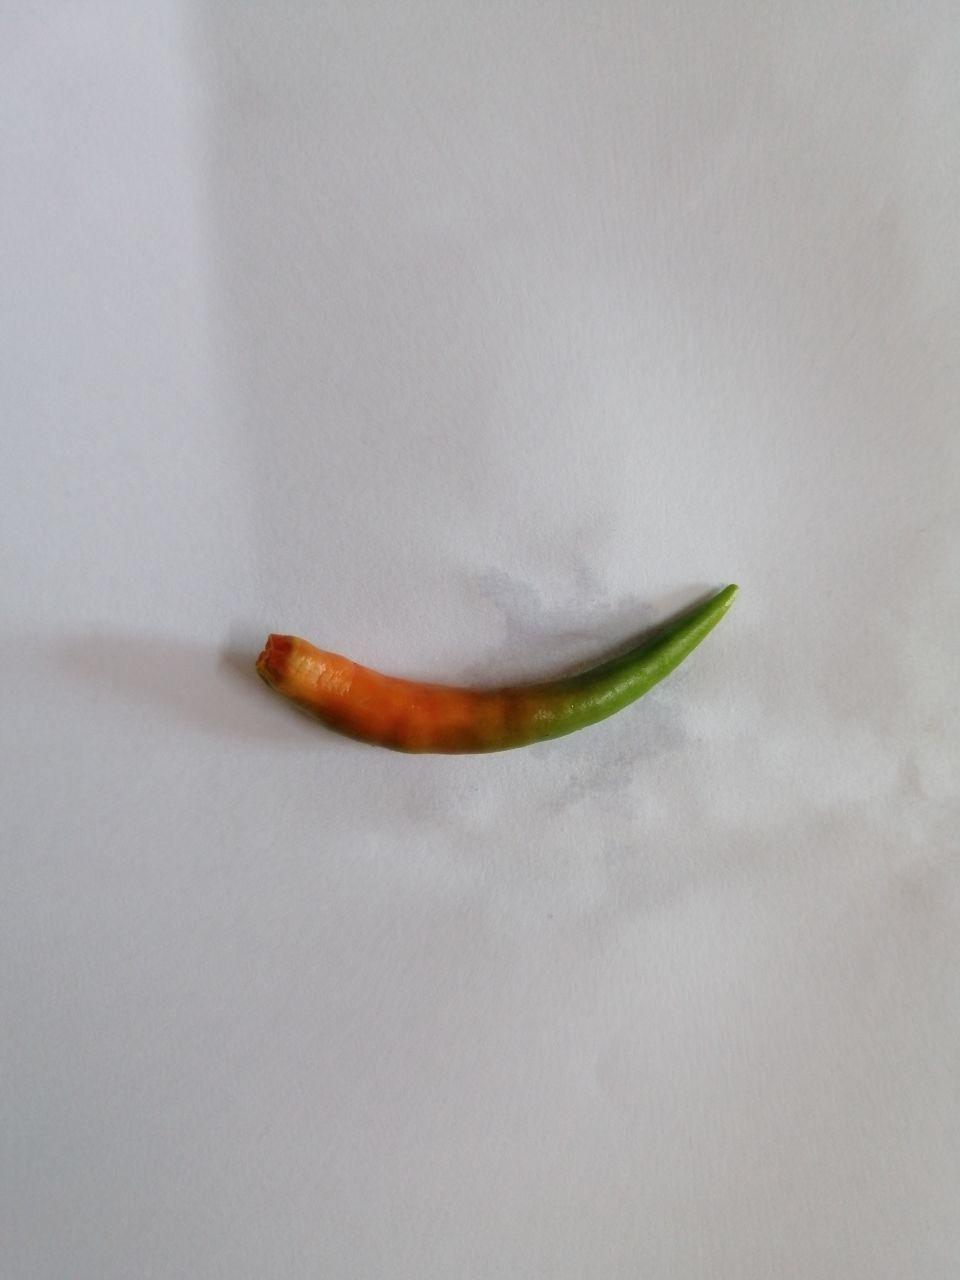lada kuning: (247, 551, 749, 772)
